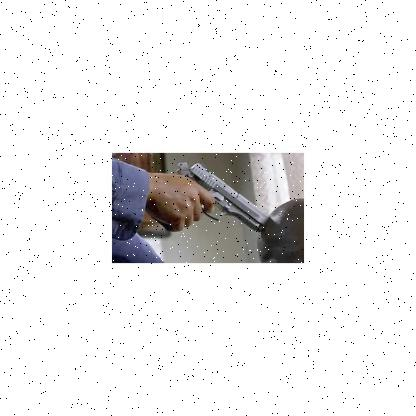gun: (164, 162, 270, 236)
